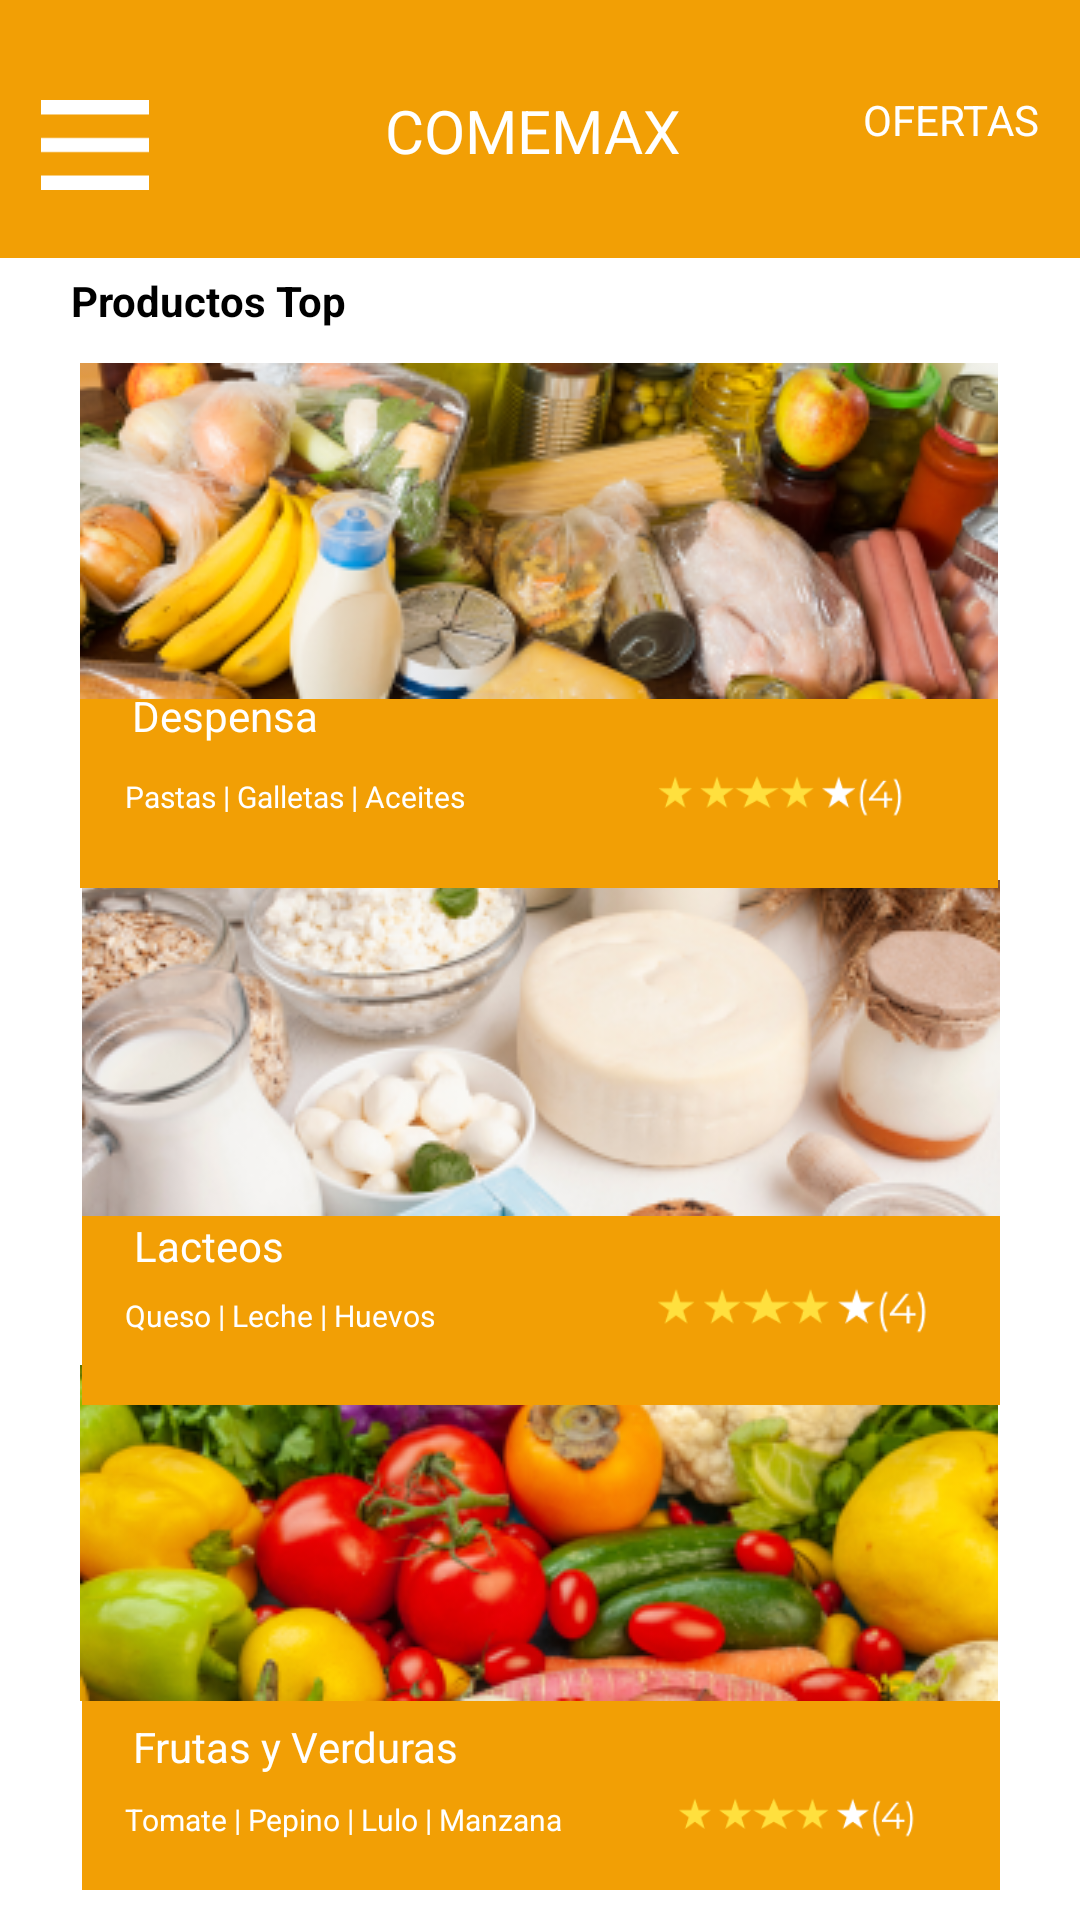

Icon bounding boxes for this 1080×1920 phone screenshot, format (x1, y1, x2, y2):
hamburguesa: (41, 100, 149, 190)
